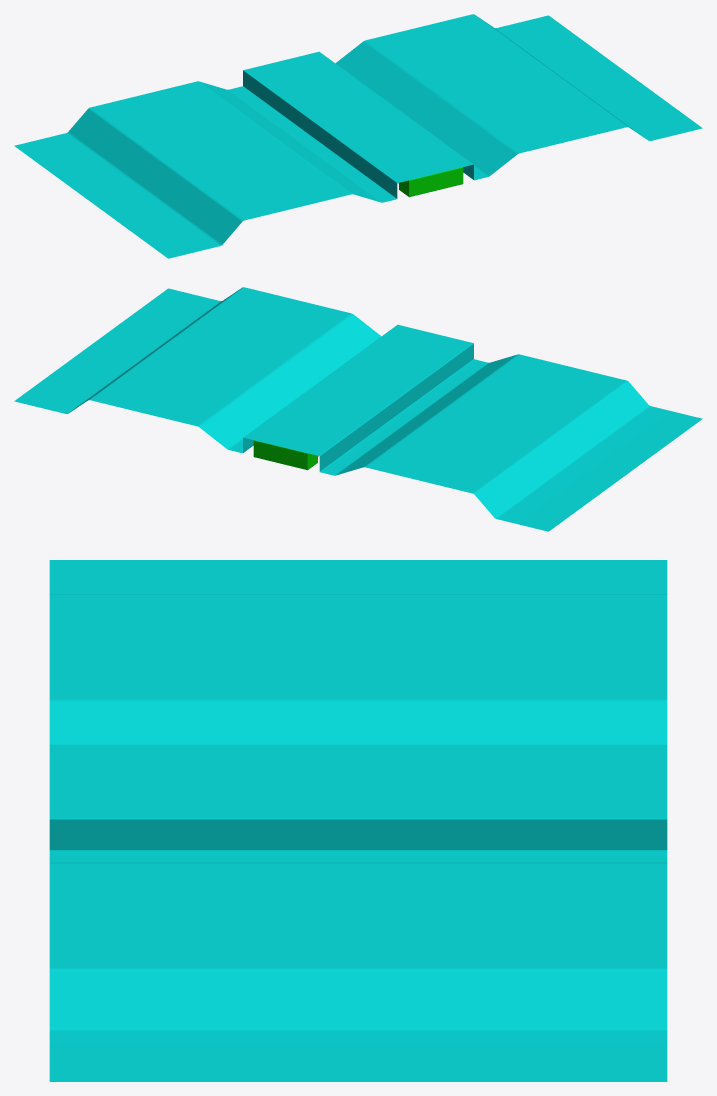
File: Ceiling_Tile_Lights_fixed.fbx
3 renders of one model, top to bottom at view 1: azimuth 30°, elevation 25°; view 2: azimuth 150°, elevation 25°; view 3: azimuth 270°, elevation 25°, orthographic. The views are drawn at different scales.
Visible parts, largest first — view 1: Ceiling_Tile_Lights; view 2: Ceiling_Tile_Lights; view 3: Ceiling_Tile_Lights.
Boxes of the visible parts, box(x1,y1,x2,y2) form: Ceiling_Tile_Lights: box(14, 14, 702, 258); Ceiling_Tile_Lights: box(14, 287, 702, 531); Ceiling_Tile_Lights: box(49, 560, 667, 1081).
Bounding box in the file's own units: 600 × 21.12 × 300.
